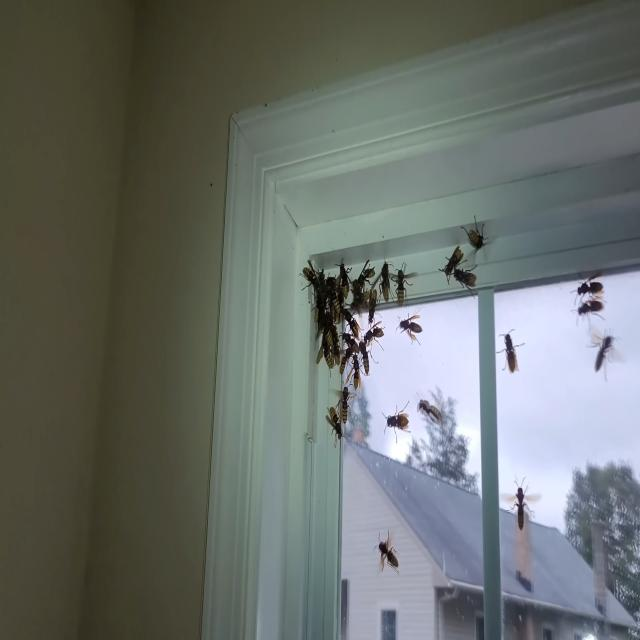Hornets: (501, 476, 542, 531), (586, 331, 620, 379), (496, 328, 526, 375), (373, 528, 401, 577), (382, 400, 412, 443), (567, 300, 609, 330), (438, 243, 467, 286), (388, 262, 418, 303), (460, 215, 489, 255), (451, 263, 480, 302), (395, 309, 423, 347), (336, 380, 357, 426), (326, 404, 348, 447), (570, 278, 606, 302), (357, 336, 378, 376), (300, 258, 320, 297), (377, 260, 394, 304), (335, 258, 353, 299), (346, 354, 365, 392), (363, 319, 385, 351), (316, 335, 334, 374), (341, 307, 362, 337), (356, 260, 376, 291), (368, 287, 381, 327), (337, 346, 354, 376), (341, 328, 359, 355), (327, 286, 341, 316)
